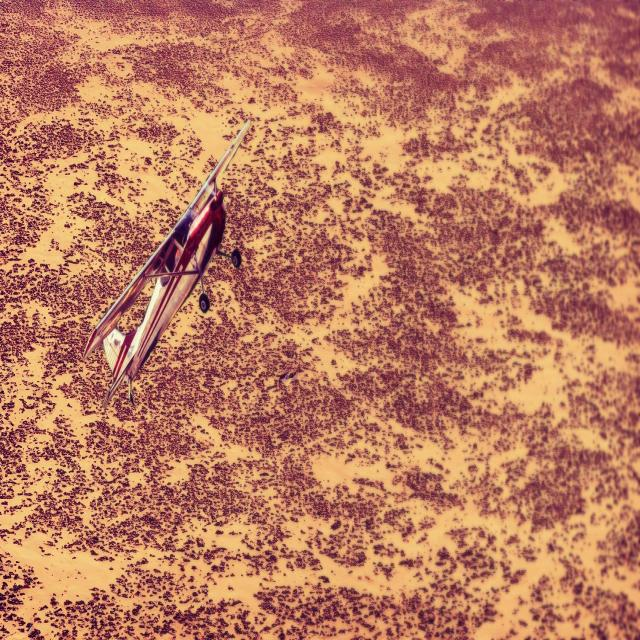airplane: (82, 118, 251, 410)
